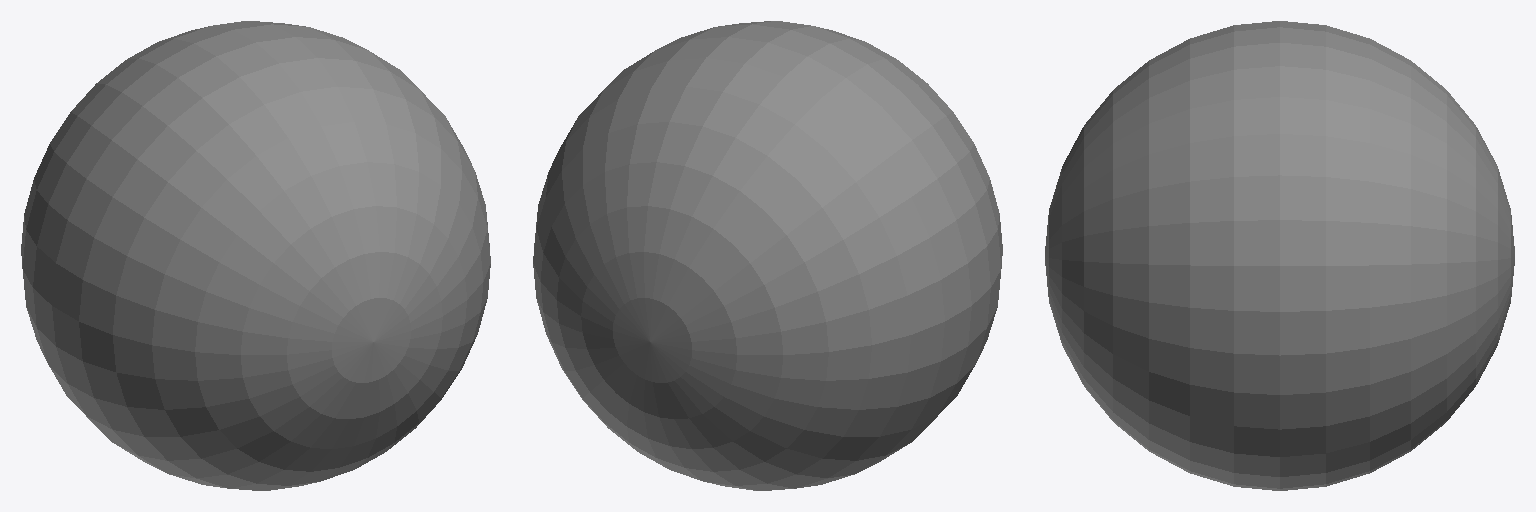
File: skysphere.obj
3 renders of one model, left to right at view 1: azimuth 30°, elevation 25°; view 2: azimuth 150°, elevation 25°; view 3: azimuth 270°, elevation 25°, orthographic.
Parts seen in each view (by area): view 1: top, left, back, front, right; view 2: bottom, left, back, front, right; view 3: right, back, bottom, top, front.
Boxes of the visible parts, box(x1,y1,x2,y2) form: top: box(181, 134, 482, 473); left: box(21, 112, 218, 460); back: box(71, 21, 440, 210); front: box(112, 424, 417, 490); right: box(421, 91, 490, 369); bottom: box(541, 134, 842, 473); left: box(805, 112, 1002, 460); back: box(583, 21, 952, 210); front: box(606, 424, 911, 490); right: box(533, 91, 602, 369); right: box(1113, 175, 1446, 476); back: box(1113, 21, 1446, 188); bottom: box(1411, 91, 1514, 448); top: box(1045, 91, 1148, 448); front: box(1113, 421, 1446, 490).
Bounding box in the file's own units: 10000 × 10000 × 10000.